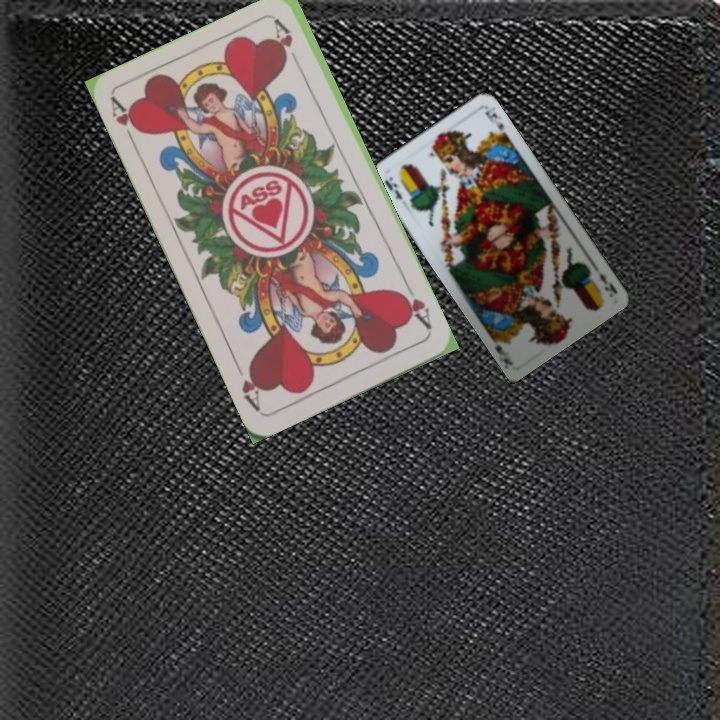EK: (380, 176, 405, 202), (595, 269, 619, 295)
HA: (106, 94, 145, 151), (395, 287, 434, 333)
